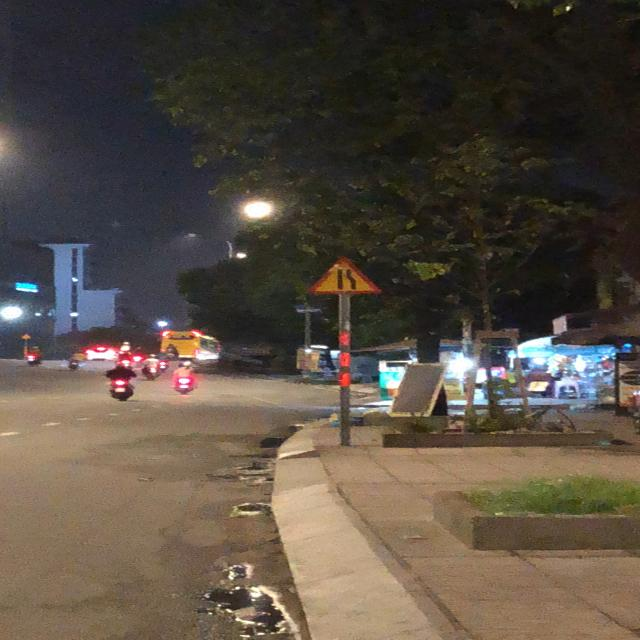Bien bao duong bi thu hep: (298, 254, 390, 298)
